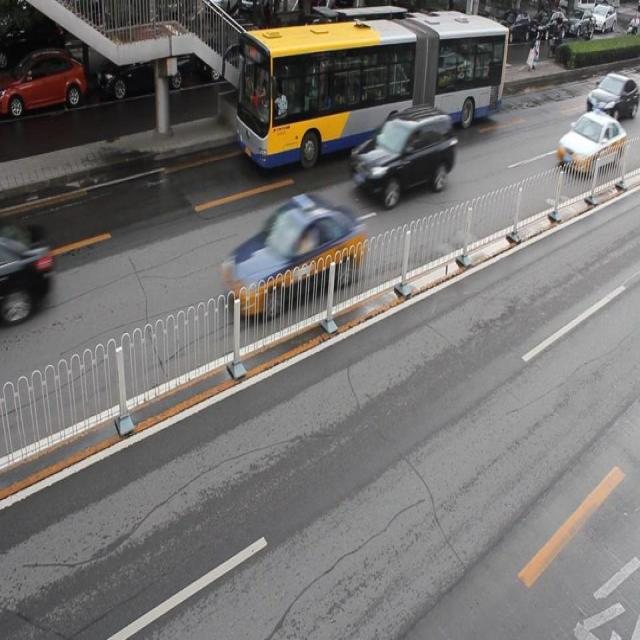car: (225, 196, 363, 316), (1, 49, 88, 115), (98, 35, 190, 95), (1, 220, 54, 320), (556, 110, 624, 176), (200, 19, 267, 81), (281, 19, 348, 72), (584, 69, 640, 120)
truck: (351, 105, 455, 204)
van: (238, 17, 508, 165)
